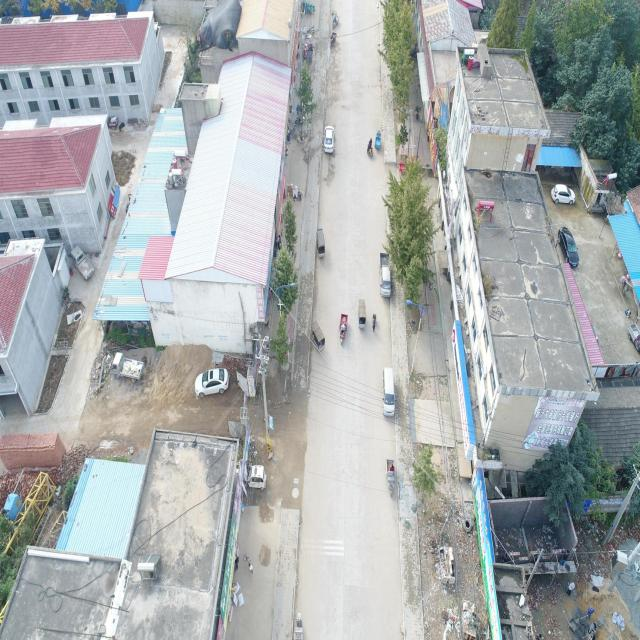car: (194, 366, 229, 399), (557, 226, 579, 267), (551, 183, 575, 205), (627, 322, 640, 351), (323, 126, 334, 154), (316, 228, 325, 258)
person: (234, 540, 240, 570), (367, 138, 373, 156), (372, 313, 376, 332)
tree: (381, 153, 438, 305), (377, 0, 418, 154), (295, 64, 316, 141)
